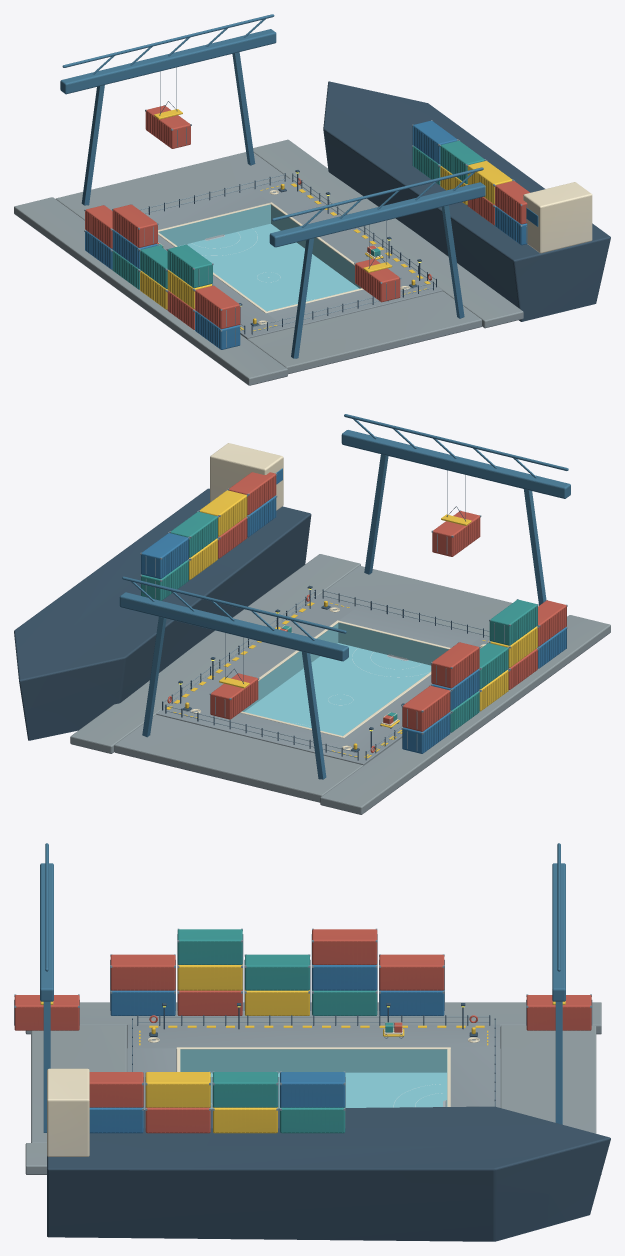
File: terminal.glb
3 renders of one model, top to bottom at view 1: azimuth 30°, elevation 25°; view 2: azimuth 150°, elevation 25°; view 3: azimuth 270°, elevation 25°, orthographic. The views are drawn at different scales.
Visible parts, largest first — view 1: Architecture, Pool floor, Pool wall; view 2: Architecture, Pool floor, Pool wall; view 3: Architecture, Pool wall, Pool floor.
Boxes of the visible parts, x1,y1,x2,y2 form: Architecture: (14, 14, 610, 385); Pool floor: (178, 223, 359, 311); Pool wall: (158, 204, 361, 288); Architecture: (14, 414, 610, 814); Pool floor: (244, 643, 431, 735); Pool wall: (242, 622, 448, 711); Architecture: (14, 843, 610, 1241); Pool wall: (180, 1049, 447, 1106); Pool floor: (210, 1072, 446, 1108).
Size of the model in its own units: 49.18 by 20.77 by 55.96.
